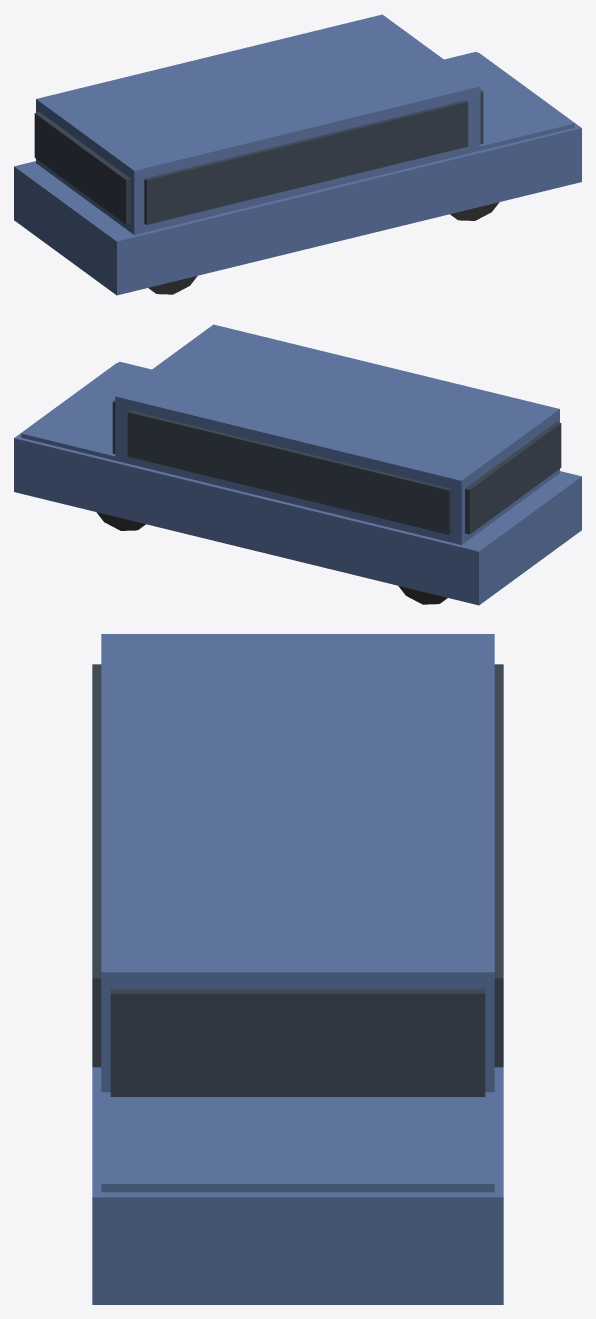
Rendered from SM_TrafficKombi.glb.
3 renders of one model, top to bottom at view 1: azimuth 30°, elevation 25°; view 2: azimuth 150°, elevation 25°; view 3: azimuth 270°, elevation 25°, orthographic. The views are drawn at different scales.
Visible parts, largest first — view 1: SM_TrafficKombi; view 2: SM_TrafficKombi; view 3: SM_TrafficKombi.
Boxes of the visible parts, left/top/right/bottom form: SM_TrafficKombi: left=14, top=14, right=581, bottom=295; SM_TrafficKombi: left=14, top=324, right=581, bottom=605; SM_TrafficKombi: left=92, top=634, right=503, bottom=1304.
Size of the model in its own units: 4.7 by 1.48 by 1.8.
